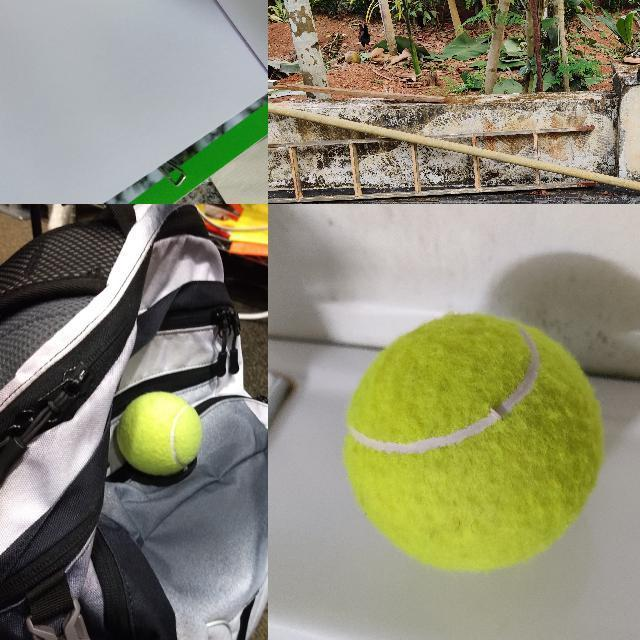tennis-ball: (339, 308, 608, 576), (116, 391, 202, 476)
